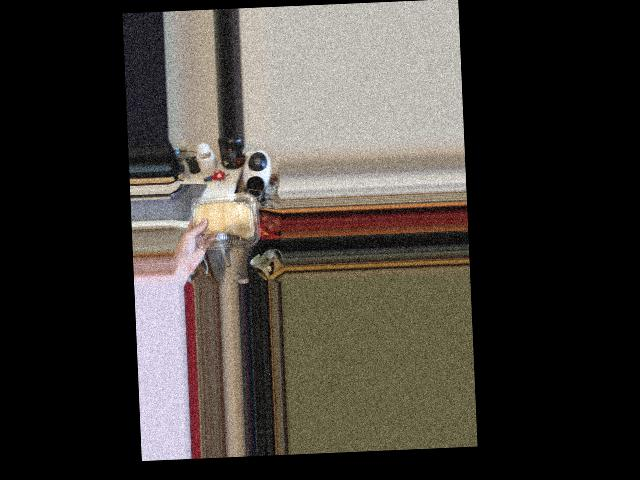cheese: (192, 187, 255, 253)
